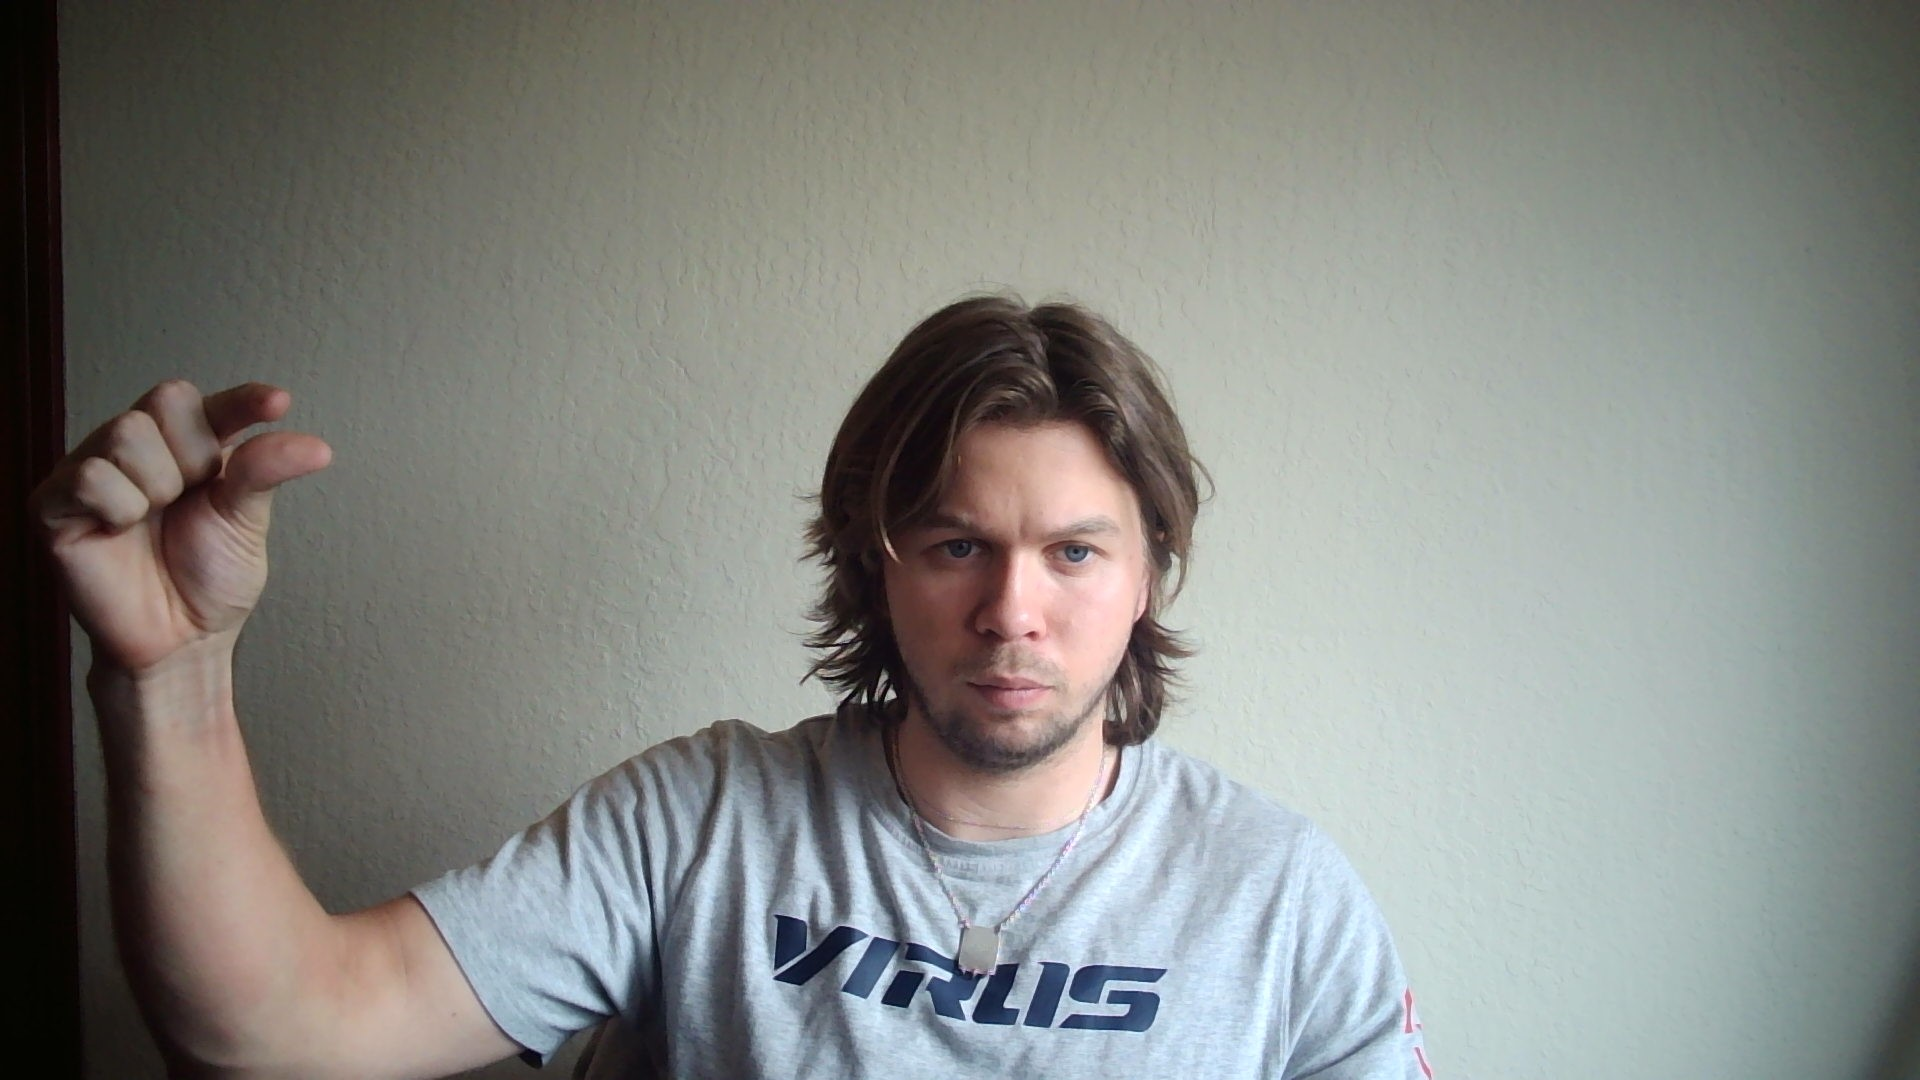small: (36, 375, 334, 665)
